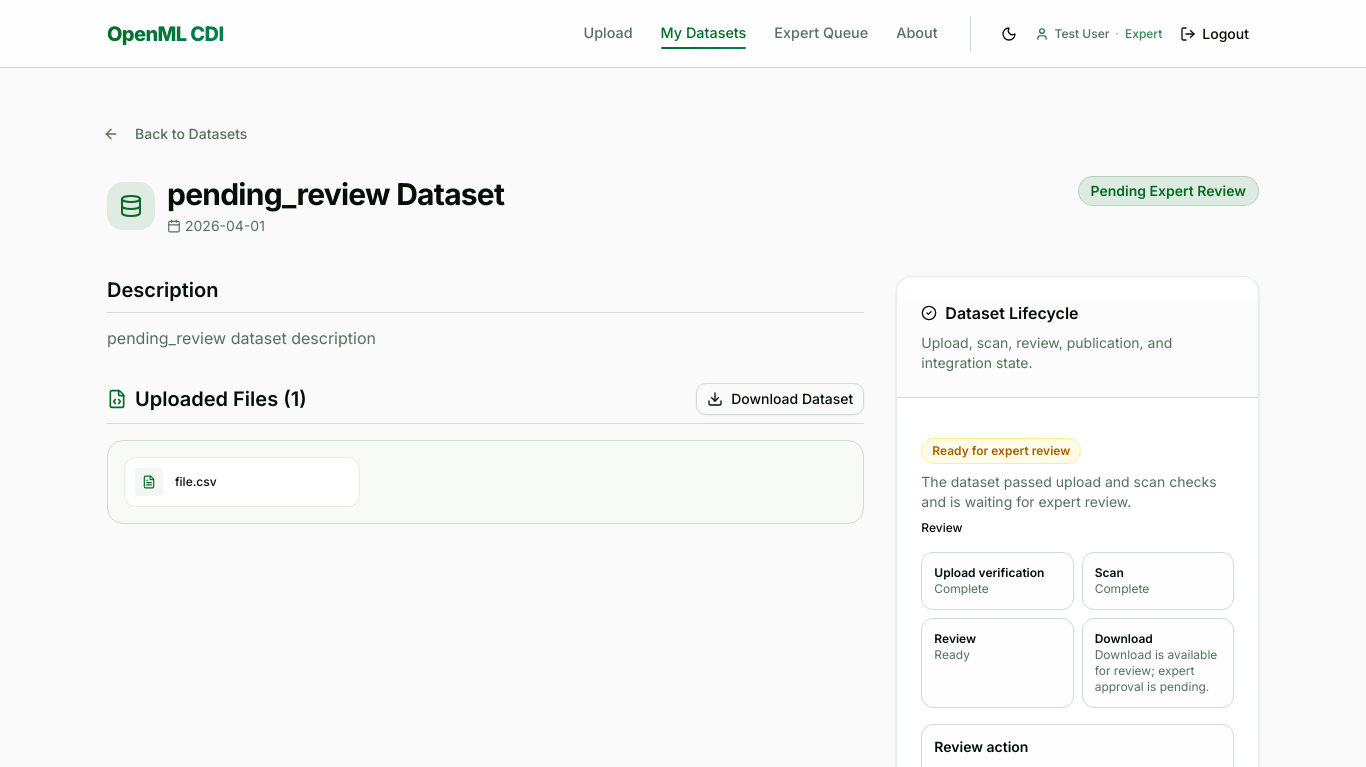
Test: DatasetDetailPage › shows a recoverable message when dataset download fails
Click the button "Download Dataset": click(780, 399) top-left (696, 383), bottom-right (864, 415)
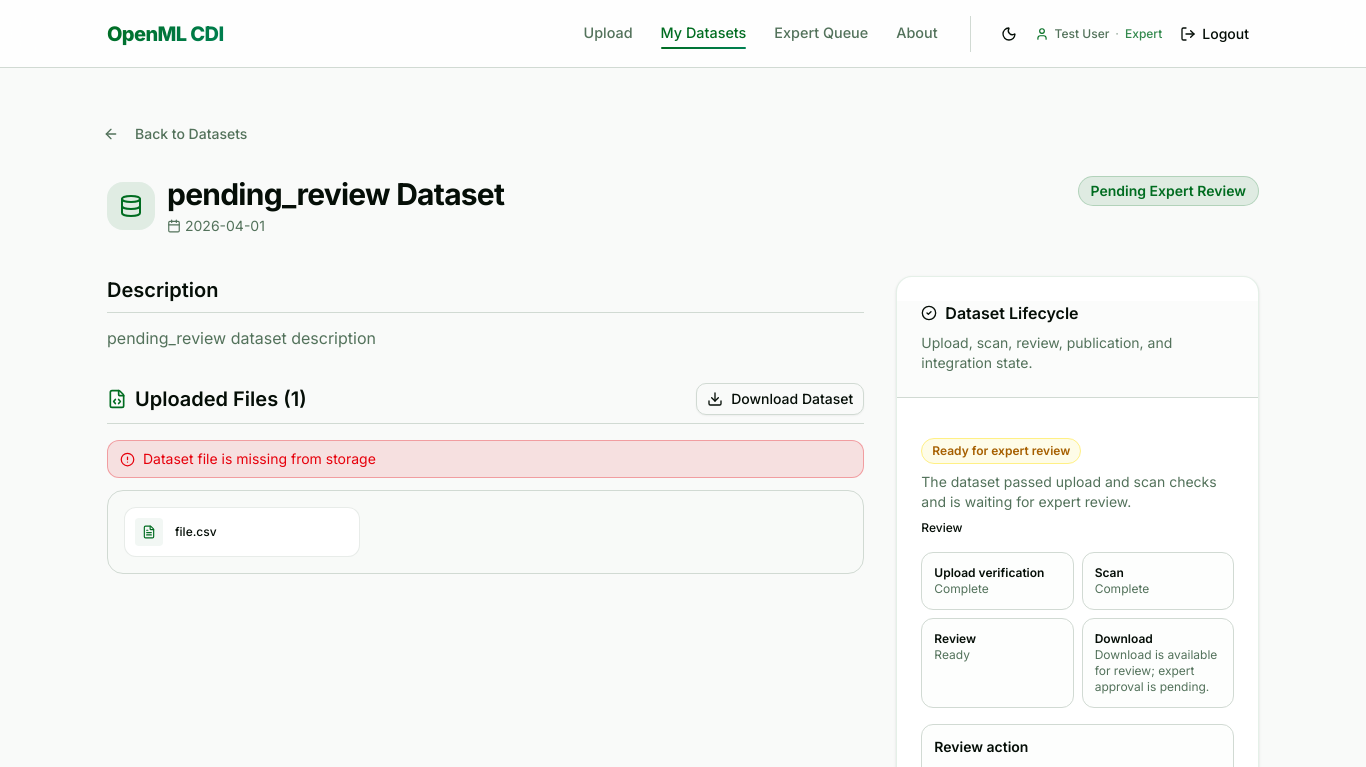
Now the text "Dataset file is missing from storage" is shown, box top-left (143, 449), bottom-right (376, 469)
